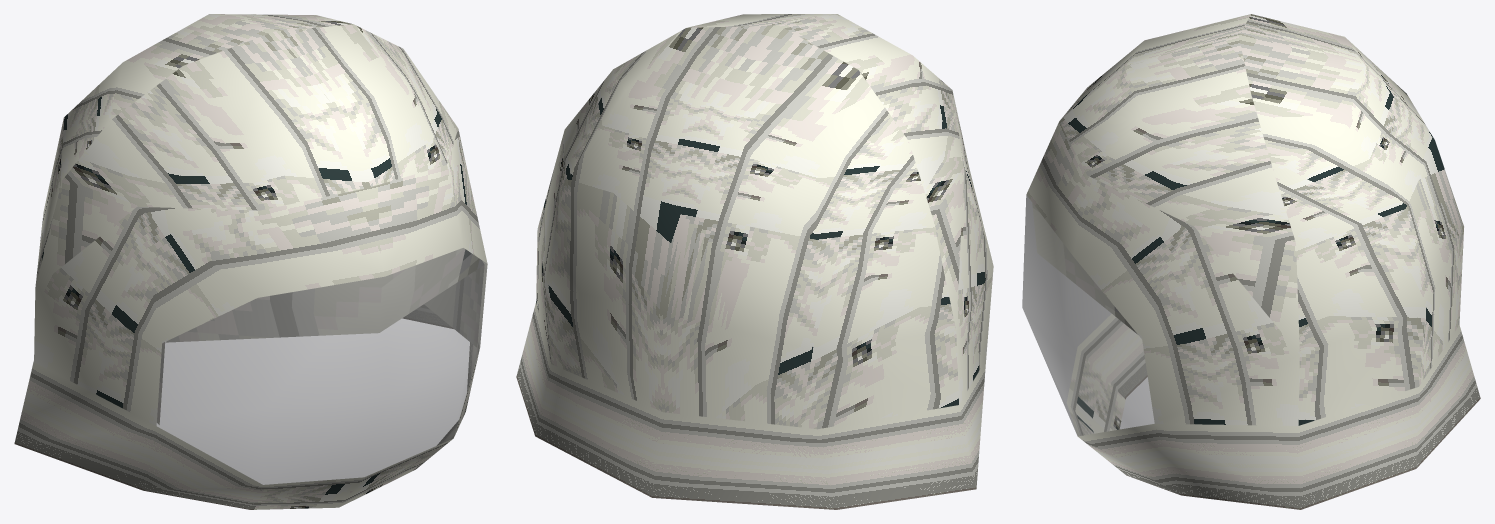
File: code_head51.gltf
3 renders of one model, left to right at view 1: azimuth 30°, elevation 25°; view 2: azimuth 150°, elevation 25°; view 3: azimuth 270°, elevation 25°, orthographic. The views are drawn at different scales.
Visible parts, largest first — view 1: code_head51; view 2: code_head51; view 3: code_head51.
Boxes of the visible parts, <box> form: code_head51: <box>14,14,487,509</box>; code_head51: <box>516,14,993,509</box>; code_head51: <box>1022,14,1480,509</box>.
Size of the model in its own units: 0.8804 by 0.7917 by 0.7959.
Materials: 2 (1 with a texture image).
